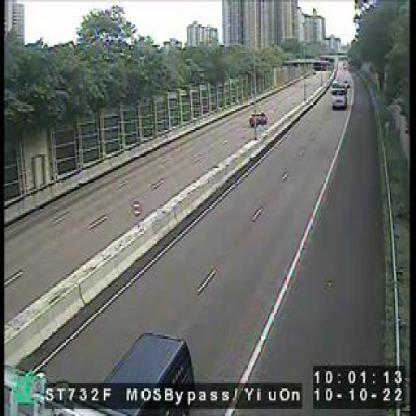Bus: (331, 77, 350, 111)
Car: (88, 326, 198, 412), (250, 110, 269, 128)
